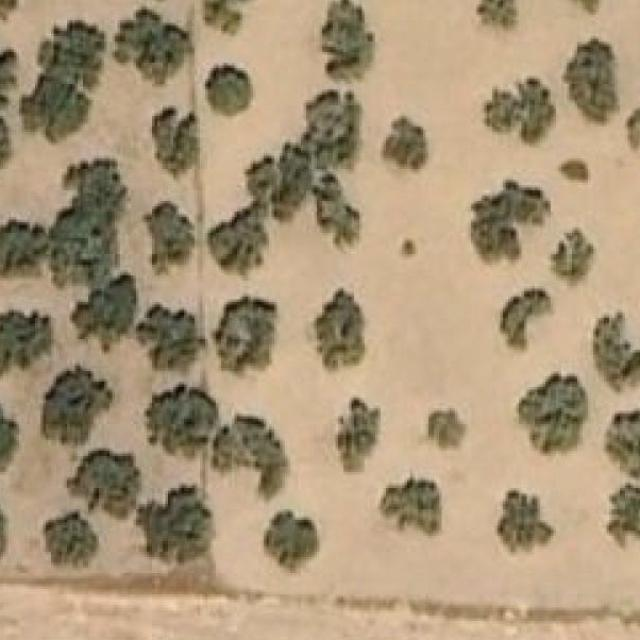Tree: (468, 178, 550, 262), (213, 414, 287, 498), (115, 5, 187, 90), (519, 371, 588, 454), (561, 36, 623, 127), (64, 447, 141, 520), (147, 385, 219, 462), (484, 75, 558, 148), (40, 366, 113, 440), (142, 486, 210, 565), (53, 212, 122, 286), (138, 305, 205, 372), (69, 273, 136, 340), (322, 0, 375, 84), (314, 289, 366, 374), (253, 144, 312, 217), (216, 297, 274, 371), (494, 488, 553, 555), (0, 307, 54, 380), (308, 93, 359, 170), (314, 174, 362, 254), (592, 313, 640, 392), (260, 509, 319, 573), (143, 201, 194, 275), (383, 470, 441, 534), (45, 26, 101, 90), (42, 509, 99, 571), (149, 107, 197, 180), (207, 209, 266, 268), (0, 219, 57, 280), (29, 73, 85, 135), (335, 398, 380, 475), (500, 289, 550, 348), (205, 66, 256, 119), (603, 408, 640, 481), (78, 158, 128, 210), (551, 231, 593, 289), (606, 486, 640, 553), (383, 116, 425, 169), (476, 0, 551, 29), (425, 408, 471, 446), (0, 396, 19, 475), (0, 29, 19, 108), (625, 78, 640, 164), (555, 158, 590, 183), (0, 109, 9, 178), (0, 0, 19, 20)
